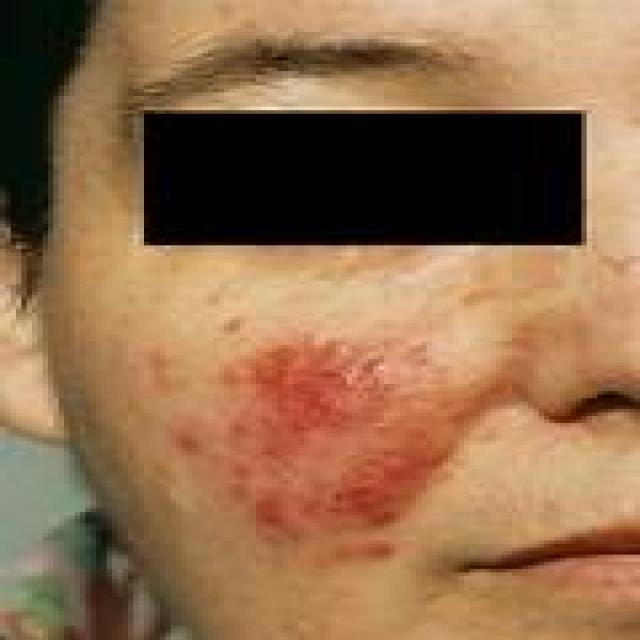Rosacea: (227, 346, 416, 557)
